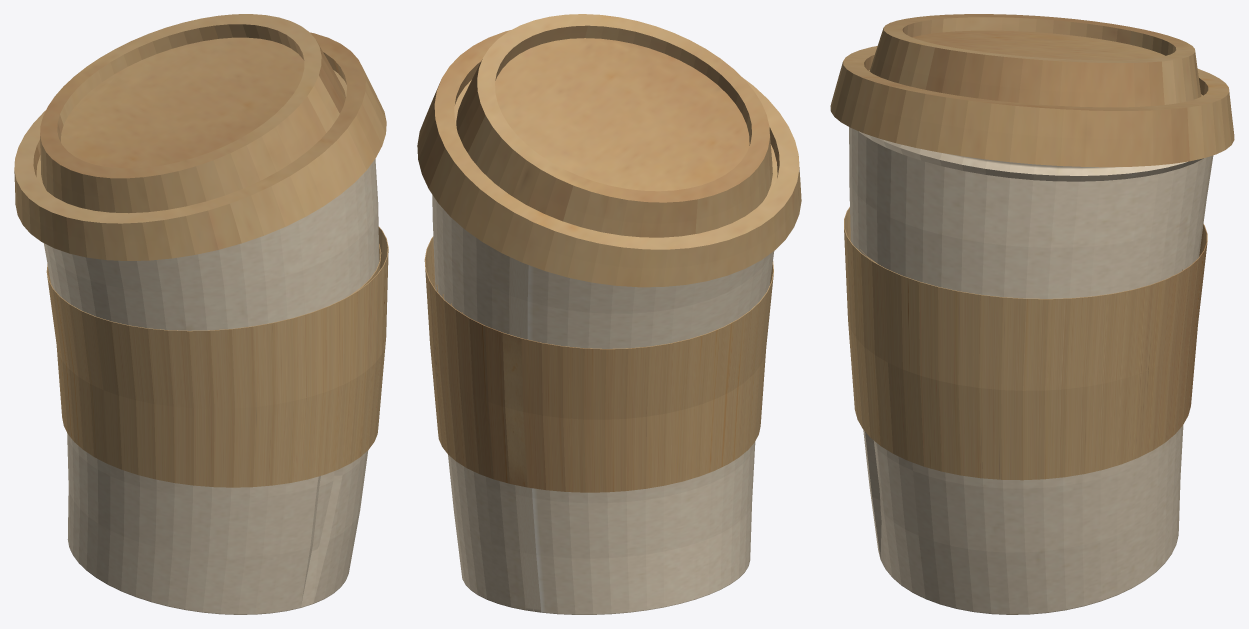
File: bend_low_0.obj
3 views of the same model, side by side, from view 1: azimuth 30°, elevation 25°; view 2: azimuth 150°, elevation 25°; view 3: azimuth 270°, elevation 25° (orthographic). The views are drawn at different scales.
Visible parts, largest first — view 1: model; view 2: model; view 3: model.
Part boxes in pixels (x1,y1,x2,y2): model: (14, 14, 388, 614); model: (417, 14, 801, 614); model: (830, 14, 1234, 614).
Bounding box in the file's own units: 0.0706 × 0.1072 × 0.0719.
Materials: 1 (1 with a texture image).
